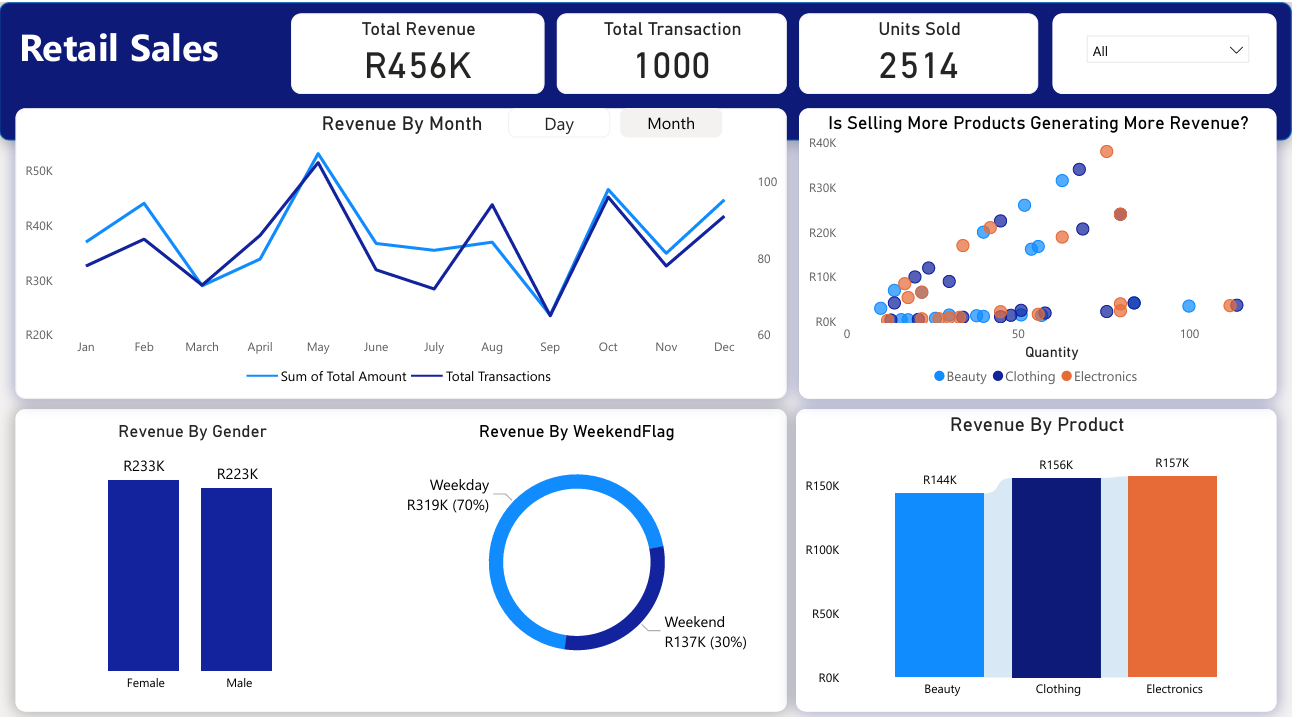

Layout of this report page (visuals, bound fields, positions):
{"tool":"powerbi","page":{"name":"Page 1","canvas":[1280,720],"ordinal":0},"visuals":[{"type":"textbox","box":[0,105.3,1280,615],"z":1500},{"type":"textbox","box":[0,0,1280,119.8],"z":1750},{"type":"textbox","box":[16,402.7,764,300],"z":2000},{"type":"textbox","box":[1042.7,10.7,222.7,80],"z":3000},{"type":"card","title":"Total Revenue","fields":{"Values":["Sum(retail_sales.Total Amount)"]},"box":[289.3,10.7,250.7,80],"z":4000},{"type":"card","title":"Units Sold","fields":{"Values":["Sum(retail_sales.Quantity)"]},"box":[792,10.7,237.3,80],"z":5000},{"type":"card","title":"Total Transaction","fields":{"Values":["retail_sales.Transactions"]},"box":[552,10.7,228,80],"z":6000},{"type":"lineChart","title":"Revenue By Month","fields":{"Category":["retail_sales.Month"],"Y":["Sum(retail_sales.Total Amount)"],"Y2":["retail_sales.Total Transactions"]},"box":[16,105.3,764,288],"z":8000},{"type":"bookmarkNavigator","box":[504,105.3,212,29.3],"z":9000},{"type":"columnChart","title":"Revenue By Product","fields":{"Category":["retail_sales.Product Category"],"Y":["Sum(retail_sales.Total Amount)"]},"box":[789.3,402.7,476,300],"z":10000},{"type":"slicer","fields":{"Values":["retail_sales.Age_Group"]},"box":[1066.7,22.7,181.3,46.7],"z":11000},{"type":"columnChart","title":"Revenue By Gender","fields":{"Y":["Sum(retail_sales.Total Amount)"],"Category":["retail_sales.Gender"]},"box":[20,414.7,342.7,278.7],"z":12000},{"type":"donutChart","title":"Revenue By WeekendFlag","fields":{"Y":["retail_sales.Total Revenue"],"Category":["retail_sales.Weekday_flag"]},"box":[381.3,414.7,381.3,261.3],"z":13000},{"type":"scatterChart","title":"Is Selling More Products Generating More Revenue?","fields":{"X":["Sum(retail_sales.Quantity)"],"Category":["retail_sales.Total Amount"],"Series":["retail_sales.Product Category"],"Y":["retail_sales.Total Revenue"]},"box":[792,105.3,473.3,288],"z":14000}]}

Visuals, with their boxes in screenshot pixels (x1, y1, x2, y2), scaled from the page's 1280x720 canvas onto the 1292x717 screenshot:
textbox: 0, 105, 1291, 716
textbox: 0, 0, 1291, 119
textbox: 16, 401, 787, 700
textbox: 1052, 11, 1277, 90
"Total Revenue" card: 292, 11, 545, 90
"Units Sold" card: 799, 11, 1039, 90
"Total Transaction" card: 557, 11, 787, 90
"Revenue By Month" lineChart: 16, 105, 787, 392
bookmarkNavigator: 509, 105, 723, 134
"Revenue By Product" columnChart: 797, 401, 1277, 700
slicer - retail_sales.Age_Group: 1077, 23, 1260, 69
"Revenue By Gender" columnChart: 20, 413, 366, 691
"Revenue By WeekendFlag" donutChart: 385, 413, 770, 673
"Is Selling More Products Generating More Revenue?" scatterChart: 799, 105, 1277, 392
